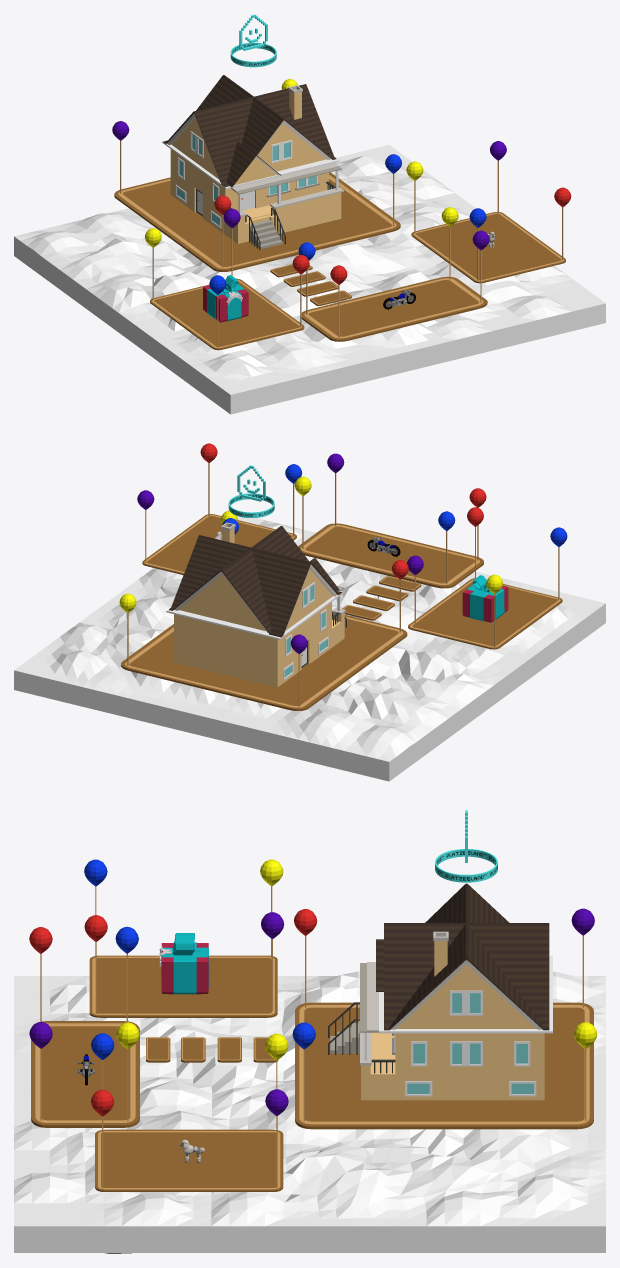
3 renders of one model, top to bottom at view 1: azimuth 30°, elevation 25°; view 2: azimuth 150°, elevation 25°; view 3: azimuth 270°, elevation 25°, orthographic. The views are drawn at different scales.
Parts seen in each view (by area): view 1: Cube.013, Cube.235, OBJRANDOM_GIANT_PRESENT, TYPE_PREMIUM; view 2: Cube.013, Cube.235, OBJRANDOM_GIANT_PRESENT, TYPE_PREMIUM; view 3: Cube.013, Cube.235, OBJRANDOM_GIANT_PRESENT, TYPE_PREMIUM.
Part boxes in pixels (x1,y1,x2,y2): Cube.013: [14, 79, 605, 414]; Cube.235: [162, 75, 343, 250]; OBJRANDOM_GIANT_PRESENT: [203, 275, 248, 322]; TYPE_PREMIUM: [230, 14, 276, 67]; Cube.013: [14, 443, 605, 781]; Cube.235: [166, 522, 346, 687]; OBJRANDOM_GIANT_PRESENT: [462, 575, 508, 622]; TYPE_PREMIUM: [228, 465, 274, 517]; Cube.013: [14, 859, 605, 1252]; Cube.235: [328, 883, 552, 1100]; OBJRANDOM_GIANT_PRESENT: [159, 933, 209, 994]; TYPE_PREMIUM: [435, 810, 497, 882].
Size of the model in its own units: 4000 by 2416 by 4000.
Materials: 32 (2 with a texture image).
